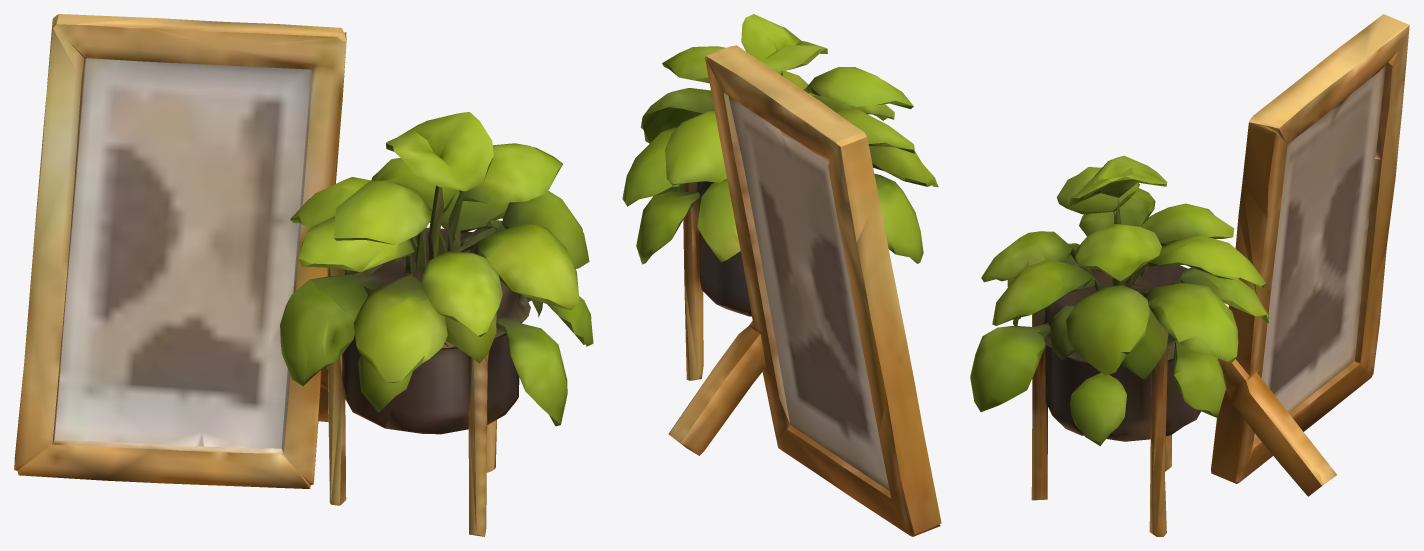
Rendered from deco28.glb.
The picture shows the model from 3 angles, left to right: view 1: azimuth 30°, elevation 25°; view 2: azimuth 150°, elevation 25°; view 3: azimuth 270°, elevation 25°; orthographic projection. The views are drawn at different scales.
Bounding box in the file's own units: 0.2328 × 0.2194 × 0.2216.
1 material, 1 textured.
